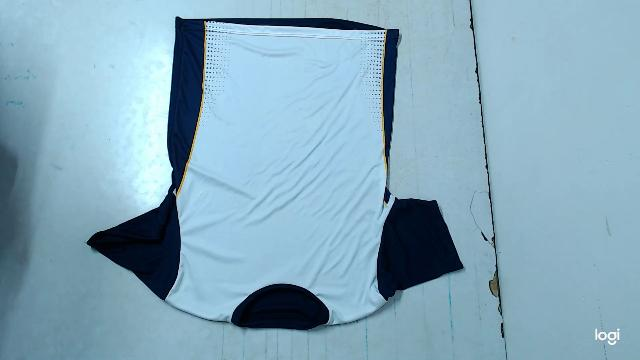new-garment: (88, 18, 461, 329)
